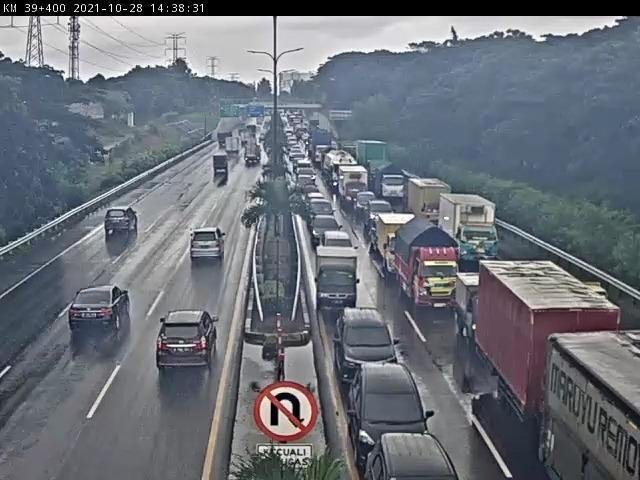car: (344, 368, 434, 446), (157, 311, 226, 377), (338, 308, 393, 379), (70, 284, 133, 335), (186, 225, 229, 266), (96, 208, 147, 242), (315, 227, 360, 256)
truck: (489, 259, 623, 421), (402, 218, 461, 320), (442, 193, 504, 267), (314, 246, 369, 313), (452, 271, 488, 348), (380, 212, 415, 276), (410, 180, 454, 227)
